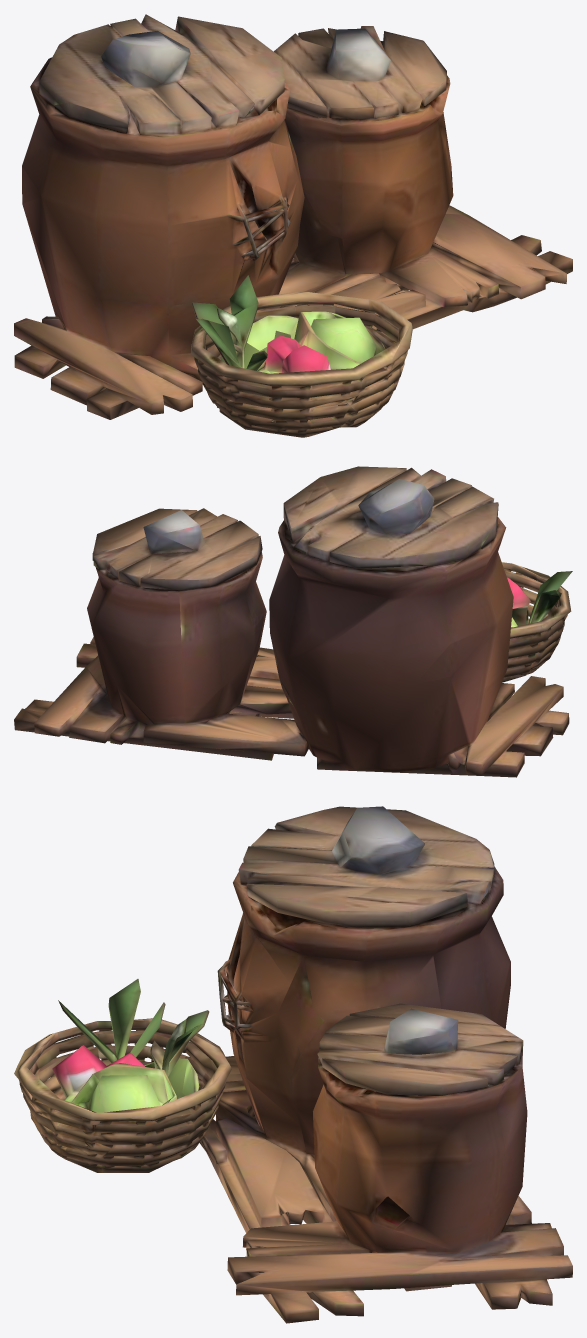
File: yancai-1.glb
3 renders of one model, top to bottom at view 1: azimuth 30°, elevation 25°; view 2: azimuth 150°, elevation 25°; view 3: azimuth 270°, elevation 25°, orthographic. The views are drawn at different scales.
Visible parts, largest first — view 1: node_0; view 2: node_0; view 3: node_0.
Part boxes in pixels (bbox=[...]): node_0: bbox=[14, 14, 572, 437]; node_0: bbox=[14, 466, 572, 777]; node_0: bbox=[14, 806, 572, 1323].
Size of the model in its own units: 0.902 by 0.5006 by 0.8154.
1 material, 1 textured.
